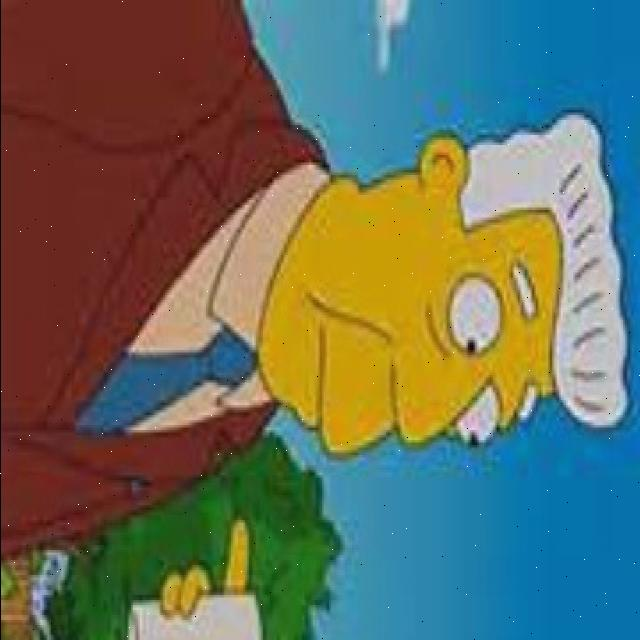Kent Brockman: (251, 104, 633, 472)
